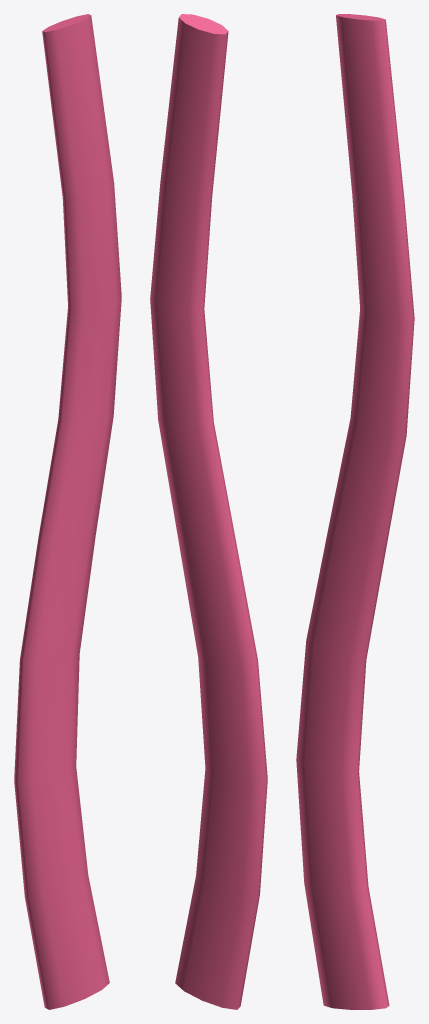
Rendered from scarf.fbx.
3 views of the same model, side by side, from view 1: azimuth 30°, elevation 25°; view 2: azimuth 150°, elevation 25°; view 3: azimuth 330°, elevation 25° (orthographic).
Visible parts, largest first — view 1: scarf; view 2: scarf; view 3: scarf.
Part boxes in pixels (box(x1,y1,x2,y2)): scarf: box(14, 14, 121, 1009); scarf: box(150, 14, 267, 1009); scarf: box(296, 14, 414, 1009).
Bounding box in the file's own units: 0.08 × 0.6868 × 0.0241.
